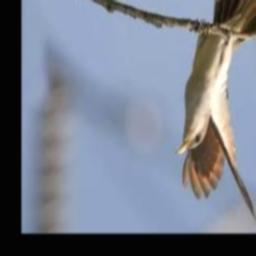Cuckoo: (175, 0, 256, 223)
